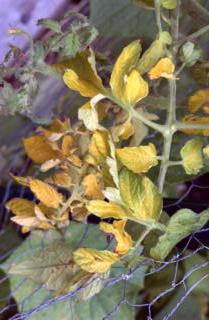Tomato leaf yellow virus: (3, 231, 139, 320), (147, 206, 201, 277), (117, 158, 164, 227), (110, 69, 150, 113)
